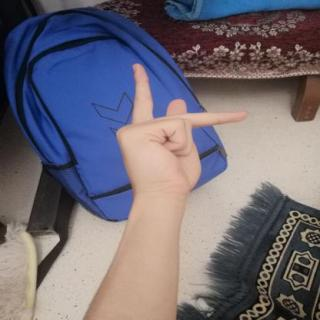DHAA: (106, 56, 260, 212)
